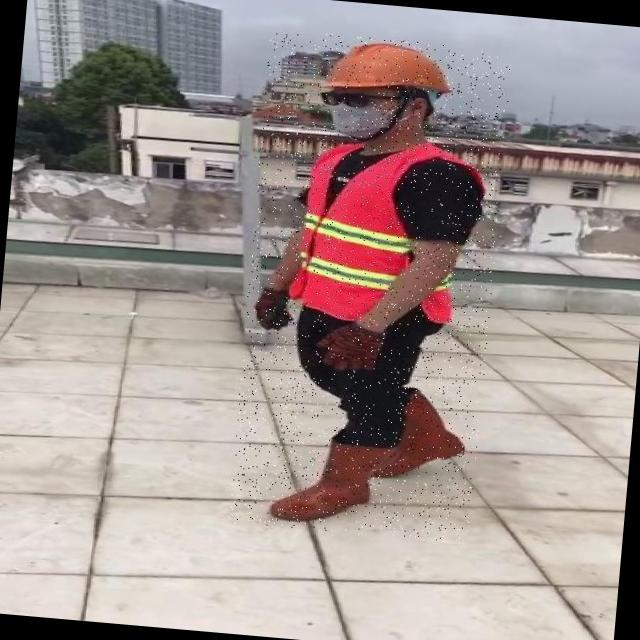hard_hat: (315, 34, 459, 102)
safety_vest: (292, 138, 465, 326)
vehicle: (227, 30, 512, 544)
work_boots: (268, 436, 389, 528), (386, 385, 471, 478)
